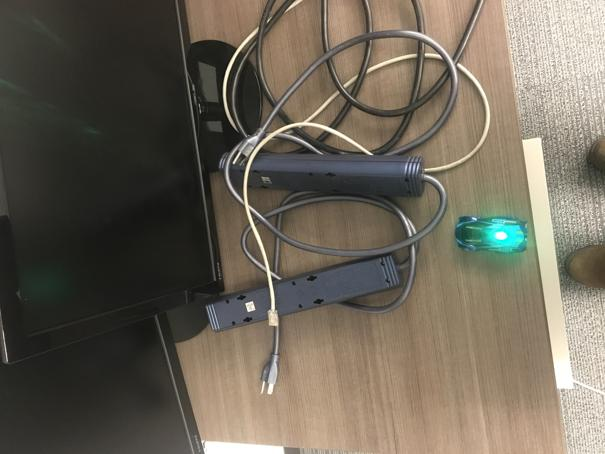Shock: (453, 214, 530, 256)
